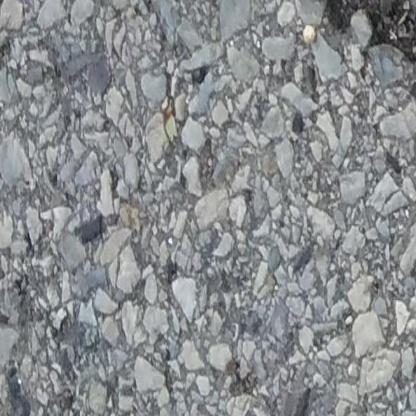Cracks: (323, 0, 416, 70)
